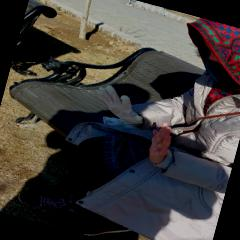gloved: (95, 84, 152, 128)
not-gloved: (145, 118, 176, 168)
